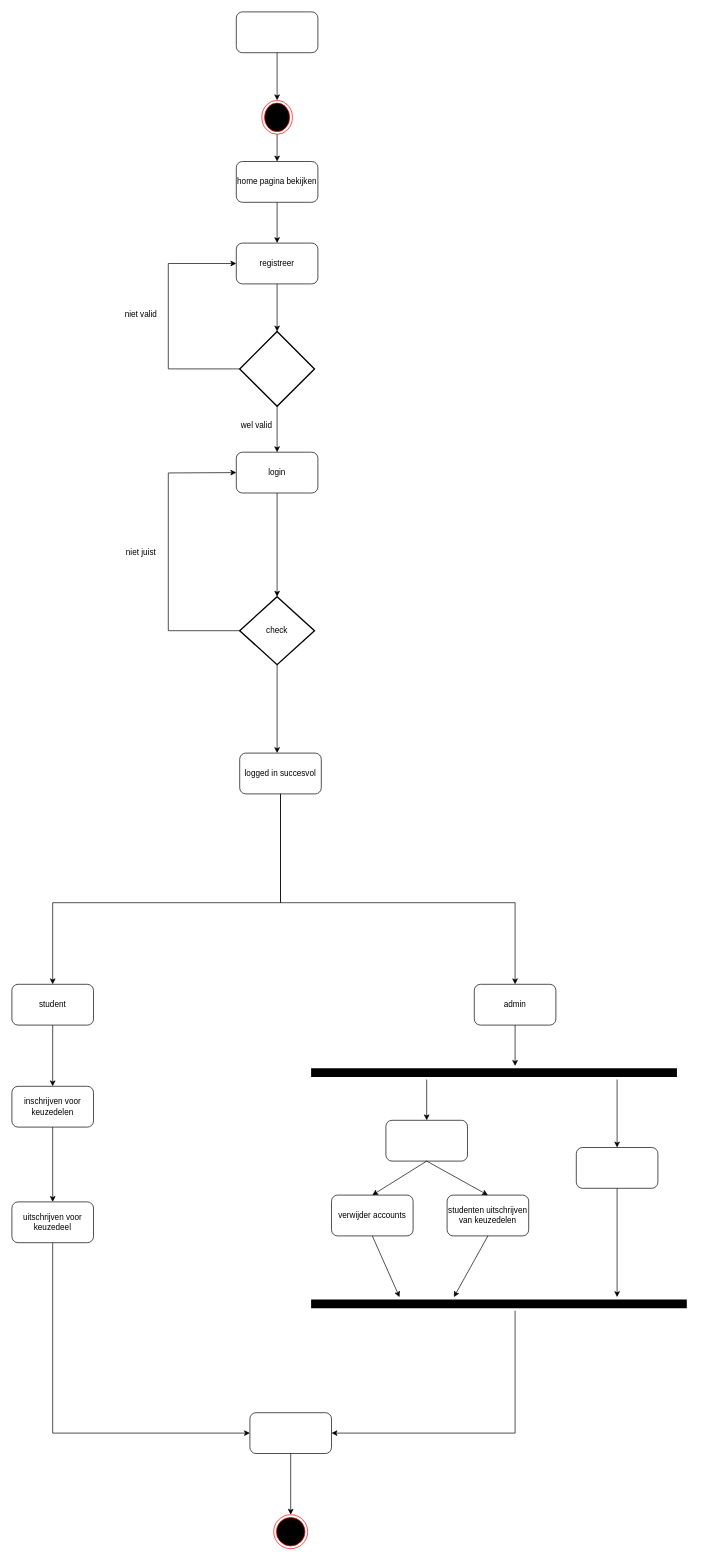
Image size: 704x1561. Some labels were removed from this diagram. The shapes that lost their labels are listed below. From the top down, each one's centre as x and y in pixels, then its label:
the point at 277,32: keuzedelen
the point at 277,368: validation
the point at 426,1140: manage accounts
the point at 617,1167: keuzedelen creëeren
the point at 290,1433: logout
